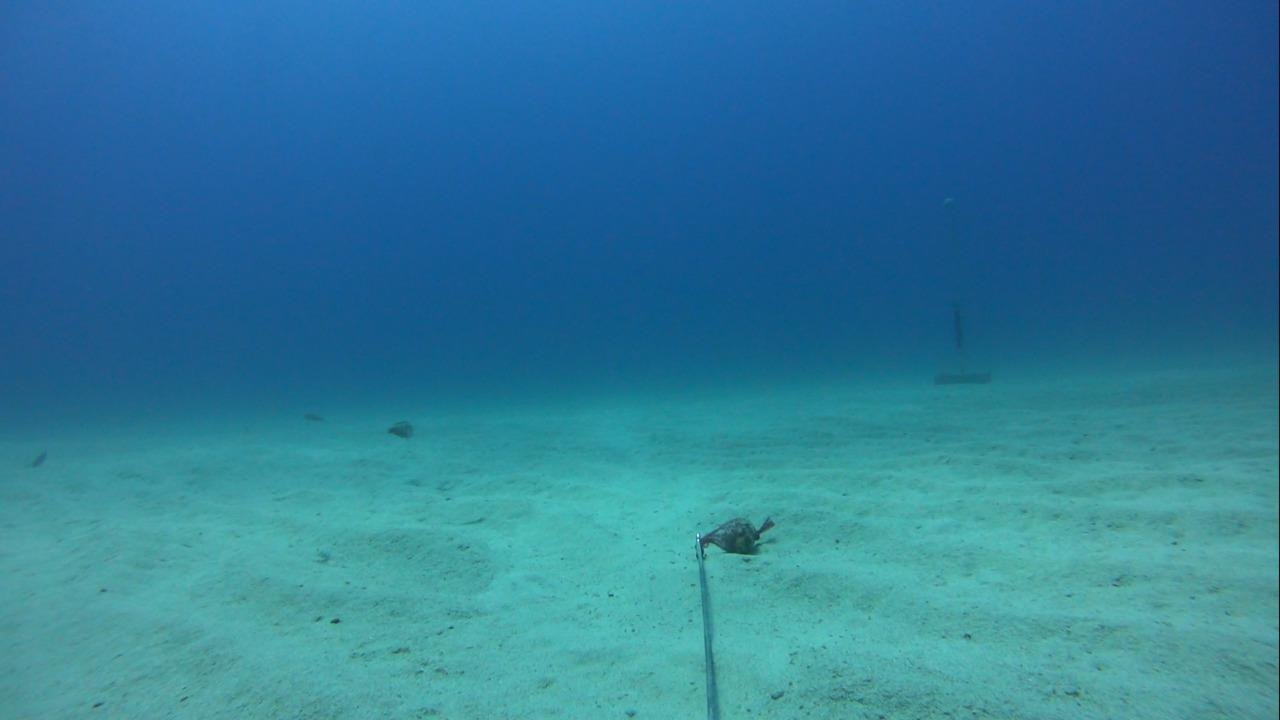raor: (376, 415, 423, 445)
